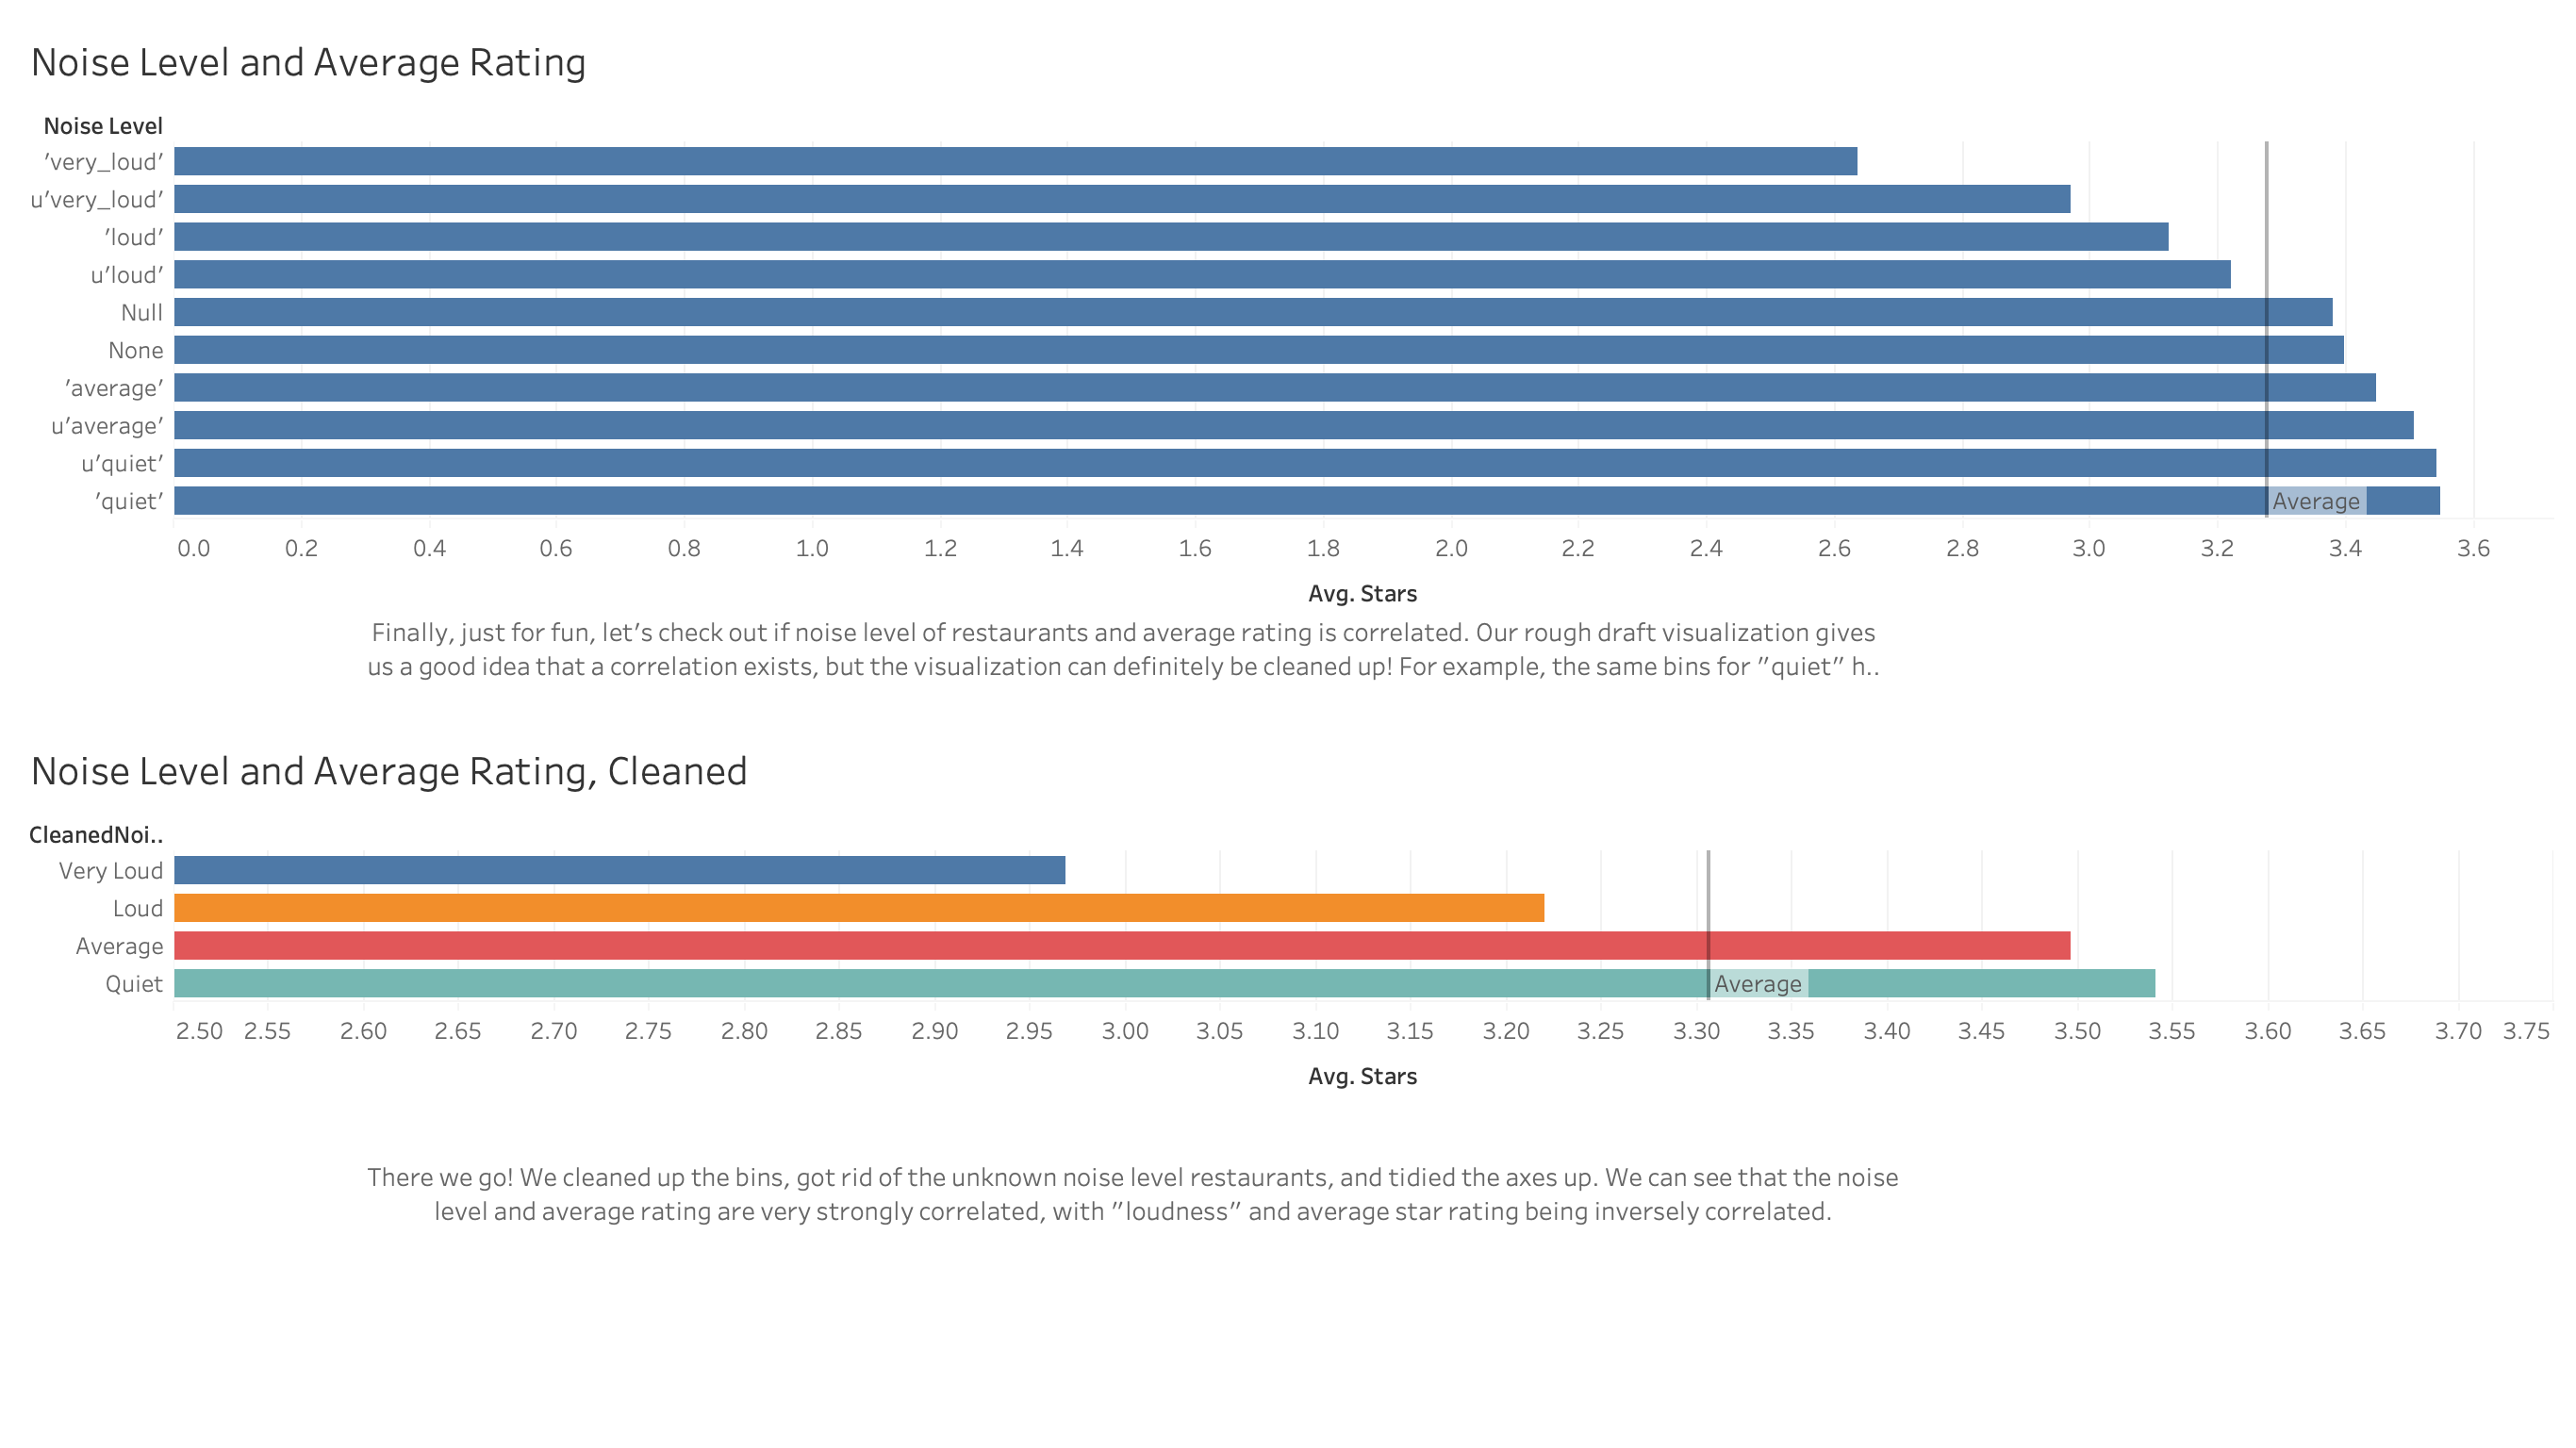

This screenshot's page, from the dashboard's own definition file:
{"tool":"tableau","page":{"name":"Dashboard 6","canvas":[1366,768],"ordinal":5},"visuals":[{"type":"worksheet","box":[0,0,1366,768]},{"type":"worksheet","param":"horz","box":[8,8,1350,752]},{"type":"worksheet","box":[8,8,1350,752]},{"type":"worksheet","title":"Sheet 11","mark":"Automatic","rows":["NoiseLevel"],"cols":["stars"],"box":[8,8,1350,376]},{"type":"worksheet","title":"Sheet 12","mark":"Automatic","rows":["Calculation_947655917505237123"],"cols":["stars"],"box":[8,384,1350,376]}]}

Visuals, with their boxes in screenshot pixels (x1, y1, x2, y2), scaled from the page's 1366x768 canvas onto the 2576x1448 screenshot:
worksheet: select_region(0, 0, 2575, 1447)
worksheet: select_region(15, 15, 2561, 1433)
worksheet: select_region(15, 15, 2561, 1433)
"Sheet 11" worksheet: select_region(15, 15, 2561, 724)
"Sheet 12" worksheet: select_region(15, 724, 2561, 1433)
